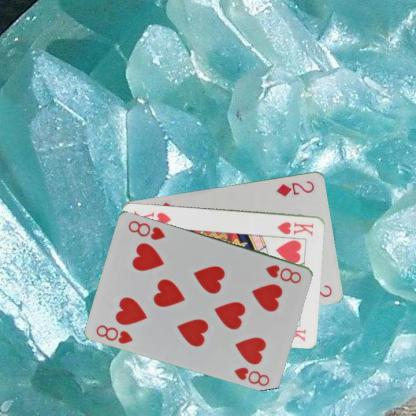2d: (274, 178, 315, 198)
8h: (94, 322, 134, 345), (263, 262, 303, 284)
Kh: (275, 219, 315, 236)
